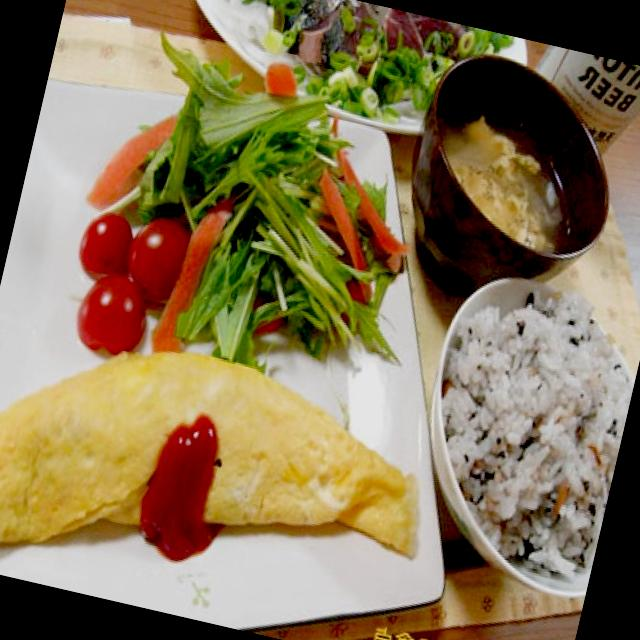Green Salad: (70, 41, 423, 388)
Omelet: (0, 292, 456, 640)
